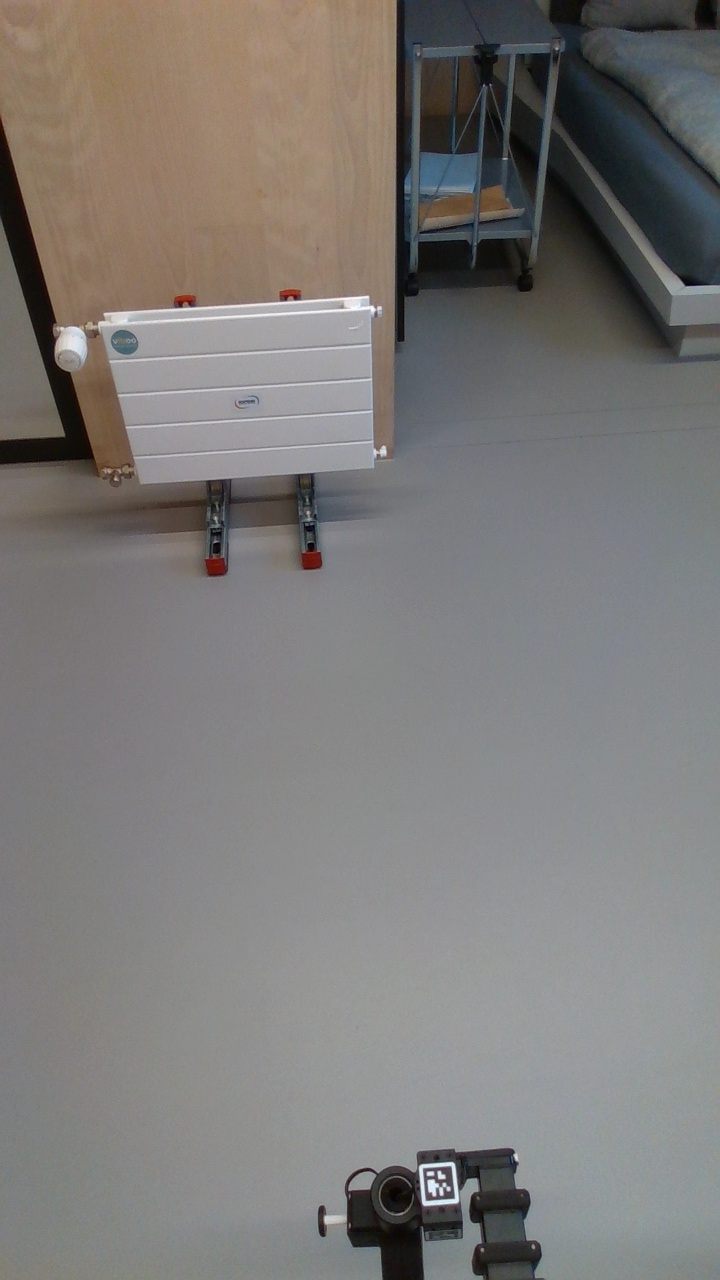Knob_Radiator: (50, 320, 93, 378)
Radiator: (97, 294, 380, 483)
